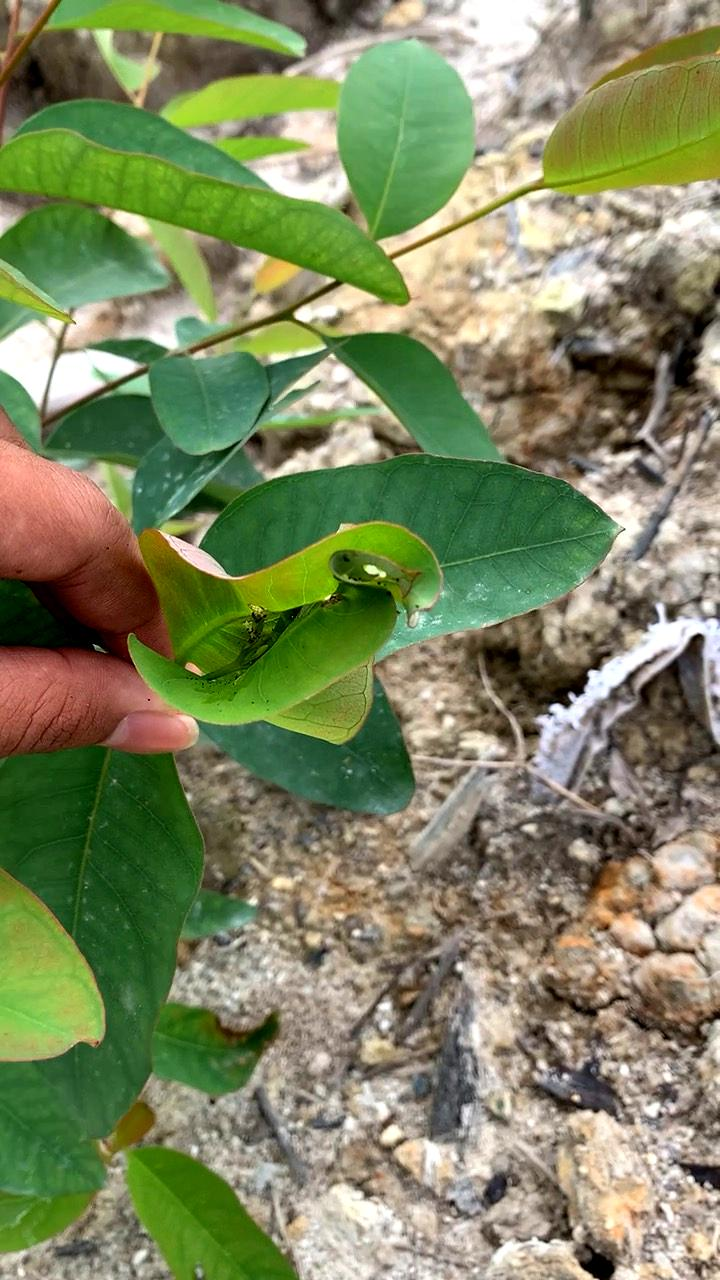Leaf Roller - Leaf: (87, 491, 471, 768)
